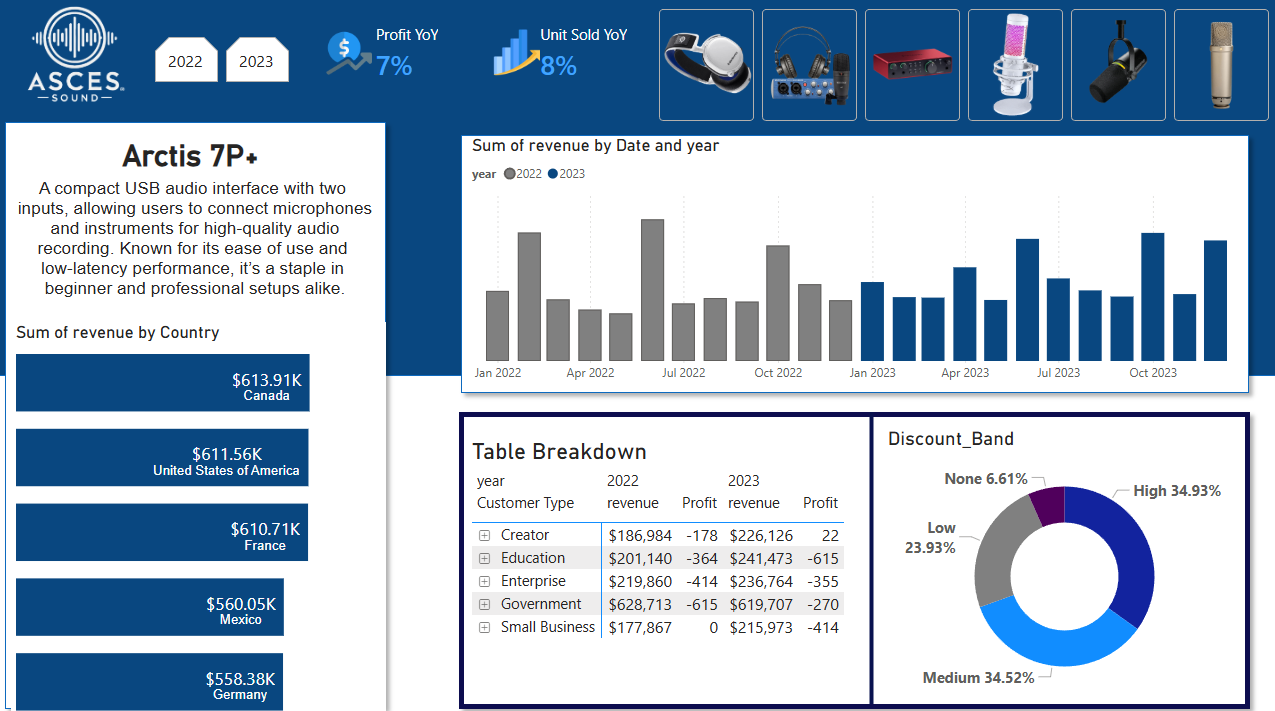

What the dashboard file says about the page in this screenshot:
{"tool":"powerbi","page":{"name":"Page 1","canvas":[1280,720],"ordinal":0},"visuals":[{"type":"shape","box":[0,0,1280,377.9],"z":0},{"type":"shape","box":[0,115.2,399,604.8],"z":1000},{"type":"shape","box":[456,128,806,276],"z":2000},{"type":"shape","box":[453.6,404.5,809.1,315.5],"z":3000},{"type":"image","box":[0,0,148,108],"z":4000},{"type":"advancedSlicerVisual","fields":{"Values":["Query1.Image_url"]},"box":[658.3,6.3,622.1,121.5],"z":5000},{"type":"card","fields":{"Values":["Min(Query1.Product)"]},"box":[14.5,115.2,360.9,79.8],"z":6000},{"type":"card","fields":{"Values":["Min(Query1.Description)"]},"box":[14.5,146,368.2,177.7],"z":7000},{"type":"clusteredBarChart","fields":{"Category":["Query1.Country"],"Y":["Sum(Query1.revenue)"]},"box":[14.5,323.7,375.4,396.3],"z":8000},{"type":"columnChart","fields":{"Category":["Query1.Date"],"Y":["Sum(Query1.revenue)"],"Series":["Query1.year"]},"box":[471,137,779,256],"z":9000},{"type":"donutChart","title":"Discount_Band","fields":{"Category":["Query1.Discount_Band"],"Y":["Sum(Query1.revenue)"]},"box":[886.9,428.9,362.7,277.5],"z":10000},{"type":"pivotTable","title":"Table Breakdown","fields":{"Rows":["Query1.Customer_Type","Query1.Product"],"Columns":["Query1.year"],"Values":["Sum(Query1.revenue)","Min(Query1.Profit)"]},"box":[471,440,397,239],"z":11000},{"type":"shape","box":[725.4,414.4,300.2,292],"z":12000},{"type":"advancedSlicerVisual","fields":{"Values":["Query1.year"]},"box":[154,34,144,55],"z":13000},{"type":"cardVisual","fields":{"Data":["Query1.Profit YoY","Query1.Unit Sold YoY"]},"box":[304.7,3.6,360,101.6],"z":14000}]}

Visuals, with their boxes in screenshot pixels (x1, y1, x2, y2), scaled from the page's 1280x720 canvas onto the 1275x711 screenshot:
shape: bbox=(0, 0, 1274, 373)
shape: bbox=(0, 114, 397, 710)
shape: bbox=(454, 126, 1257, 399)
shape: bbox=(452, 399, 1258, 710)
image: bbox=(0, 0, 147, 107)
advancedSlicerVisual - Query1.Image_url: bbox=(656, 6, 1274, 126)
card - Min(Query1.Product): bbox=(14, 114, 374, 193)
card - Min(Query1.Description): bbox=(14, 144, 381, 320)
clusteredBarChart - Query1.Country x Sum(Query1.revenue): bbox=(14, 320, 388, 710)
columnChart - Query1.Date x Sum(Query1.revenue): bbox=(469, 135, 1245, 388)
"Discount_Band" donutChart: bbox=(883, 424, 1245, 698)
"Table Breakdown" pivotTable: bbox=(469, 434, 865, 671)
shape: bbox=(723, 409, 1022, 698)
advancedSlicerVisual - Query1.year: bbox=(153, 34, 297, 88)
cardVisual - Query1.Profit YoY x Query1.Unit Sold YoY: bbox=(304, 4, 662, 104)
